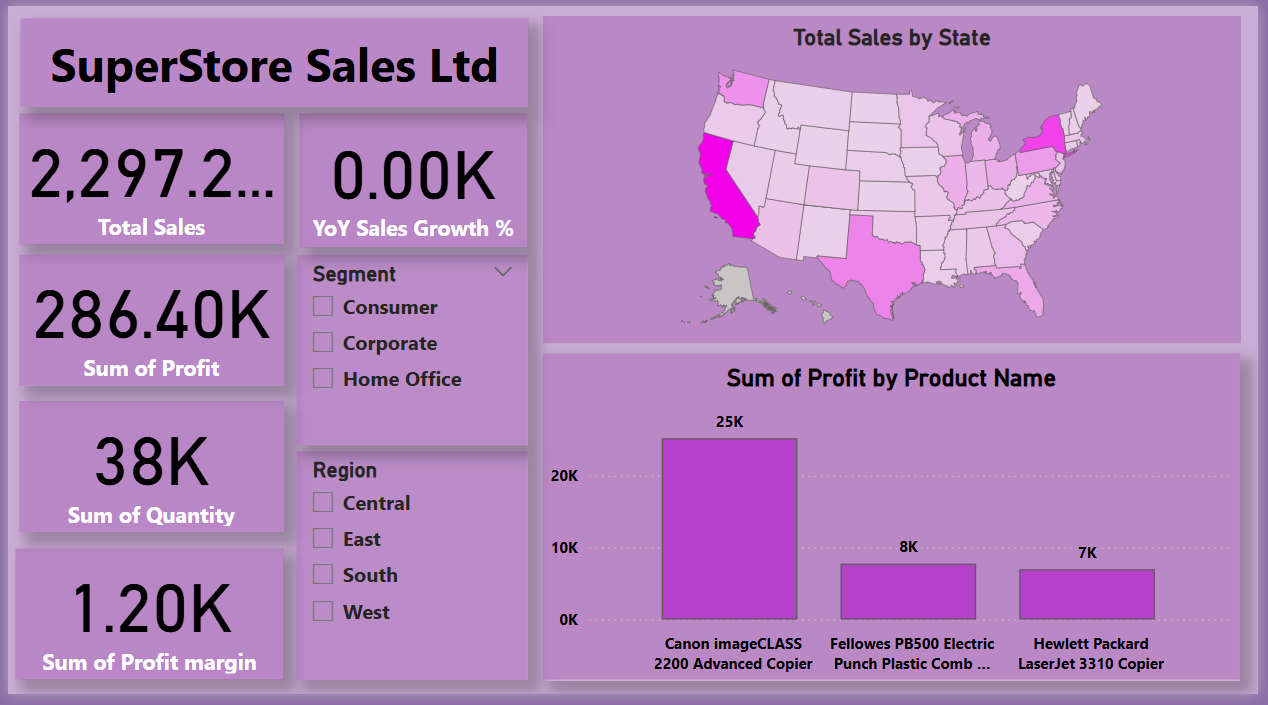

The page's visual inventory and layout, read from the dashboard file:
{"tool":"powerbi","page":{"name":"Overall","canvas":[1000,550],"ordinal":0},"visuals":[{"type":"card","fields":{"Values":["Sample - Superstore.Total Sales"]},"box":[8.8,86.2,212.5,105],"z":0},{"type":"card","fields":{"Values":["Sum(Sample - Superstore.Profit)"]},"box":[8.8,198.8,212.5,105],"z":1000},{"type":"card","fields":{"Values":["Sum(Sample - Superstore.Quantity)"]},"box":[8.8,316.2,212.5,105],"z":2000},{"type":"card","fields":{"Values":["Sum(Sample - Superstore.Profit margin)"]},"box":[6.2,433.8,215,105],"z":3000},{"type":"slicer","fields":{"Values":["Sample - Superstore.Region"]},"box":[231.2,356.2,185,182.5],"z":4000},{"type":"slicer","fields":{"Values":["Sample - Superstore.Segment"]},"box":[231.2,198.8,185,152.5],"z":5000},{"type":"card","fields":{"Values":["Sample - Superstore.YoY Sales Growth %"]},"box":[232.5,86.2,183.8,106.2],"z":6000},{"type":"shape","box":[427.5,277.5,558.8,261.2],"z":7000},{"type":"columnChart","fields":{"Y":["Sum(Sample - Superstore.Profit)"],"Category":["Sample - Superstore.Product Name"]},"box":[428,278,558,262],"z":8000},{"type":"shape","box":[428.2,8.2,559.1,261.8],"z":9000},{"type":"shape","box":[10,10,406.9,70.8],"z":10000},{"type":"shapeMap","fields":{"Value":["Sample - Superstore.Total Sales"],"Category":["Sample - Superstore.State"]},"box":[428,8,559,262],"z":11000}]}

Visuals, with their boxes in screenshot pixels (x1, y1, x2, y2), scaled from the page's 1000x550 canvas onto the 1268x705 screenshot:
card - Sample - Superstore.Total Sales: 11, 110, 281, 245
card - Sum(Sample - Superstore.Profit): 11, 255, 281, 389
card - Sum(Sample - Superstore.Quantity): 11, 405, 281, 540
card - Sum(Sample - Superstore.Profit margin): 8, 556, 280, 691
slicer - Sample - Superstore.Region: 293, 457, 528, 691
slicer - Sample - Superstore.Segment: 293, 255, 528, 450
card - Sample - Superstore.YoY Sales Growth %: 295, 110, 528, 247
shape: 542, 356, 1251, 691
columnChart - Sum(Sample - Superstore.Profit) x Sample - Superstore.Product Name: 543, 356, 1250, 692
shape: 543, 11, 1252, 346
shape: 13, 13, 529, 104
shapeMap - Sample - Superstore.Total Sales x Sample - Superstore.State: 543, 10, 1252, 346
